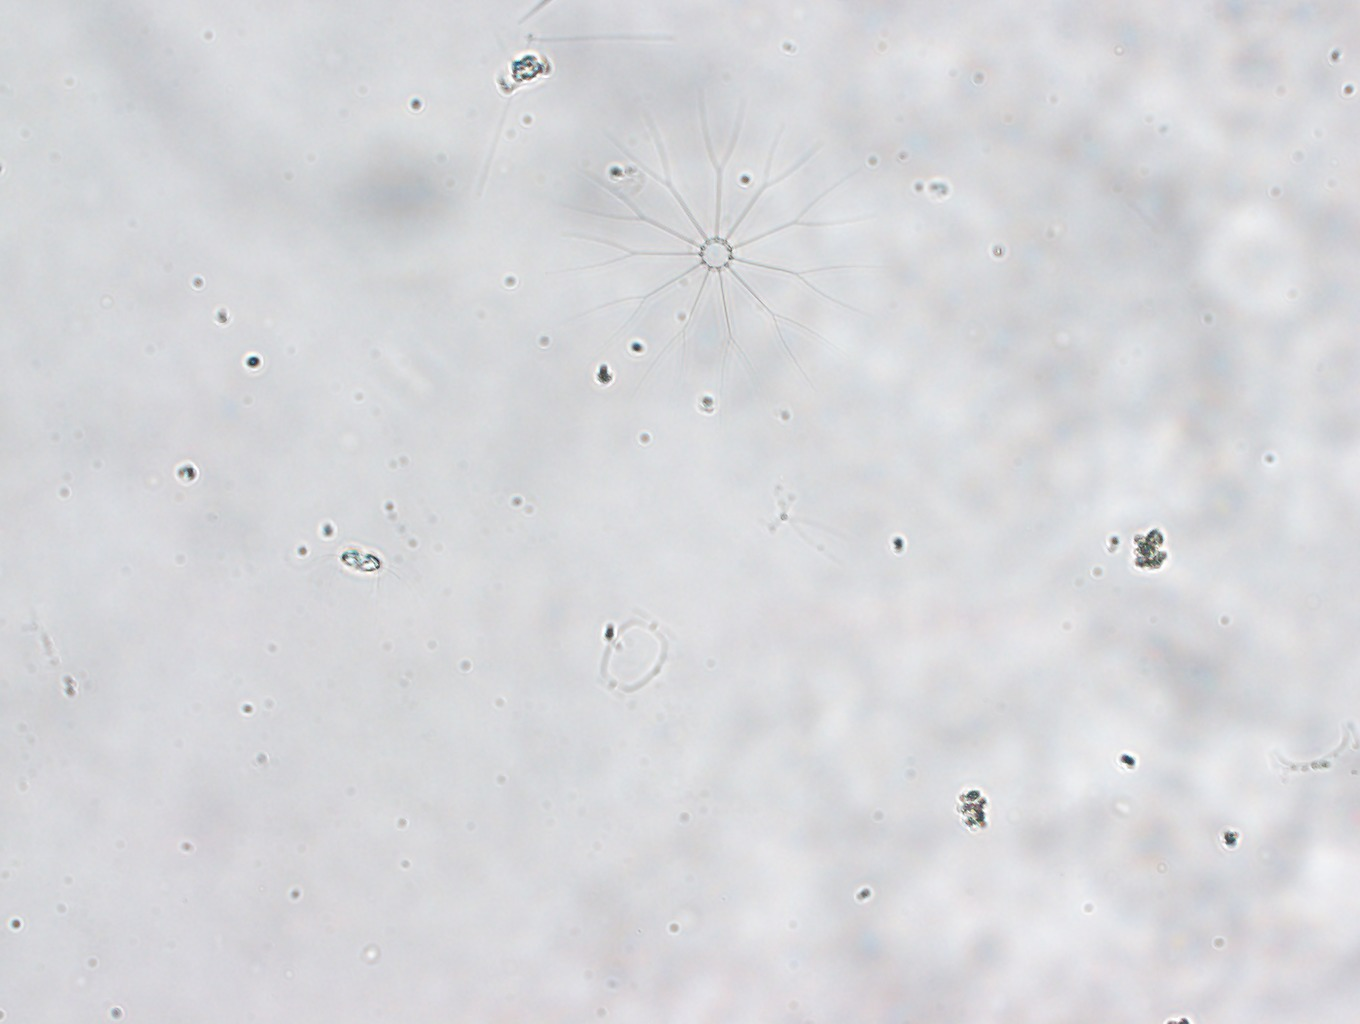bacteriastrum: (546, 93, 877, 399)
